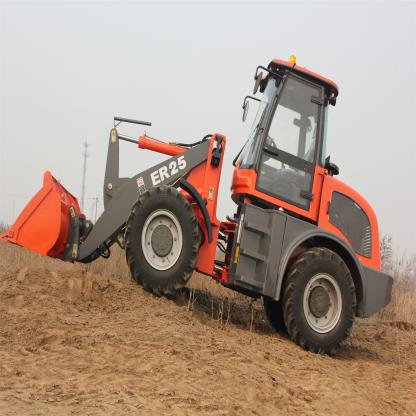bull_dozer/loader/grader: (9, 33, 392, 362)
